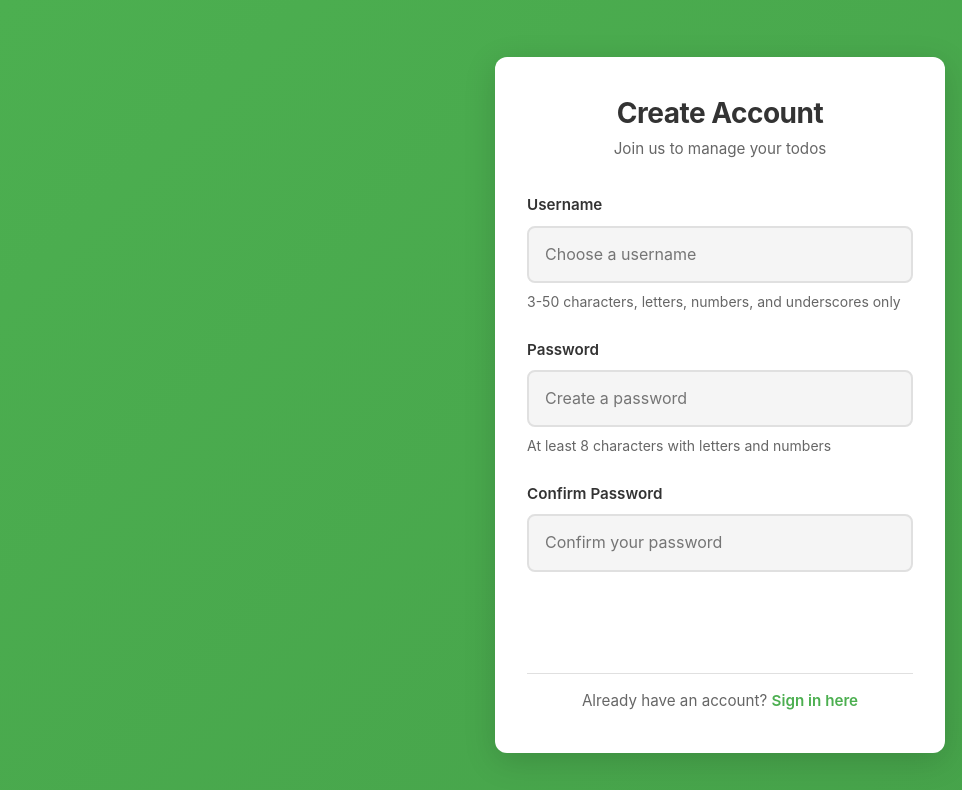
SignupPage.vue › Username Validation › shows error for username with invalid characters
This screenshot has width=962, height=790.
Type "user@name" into the field with id "username" at (720, 254), box [527, 226, 913, 283]
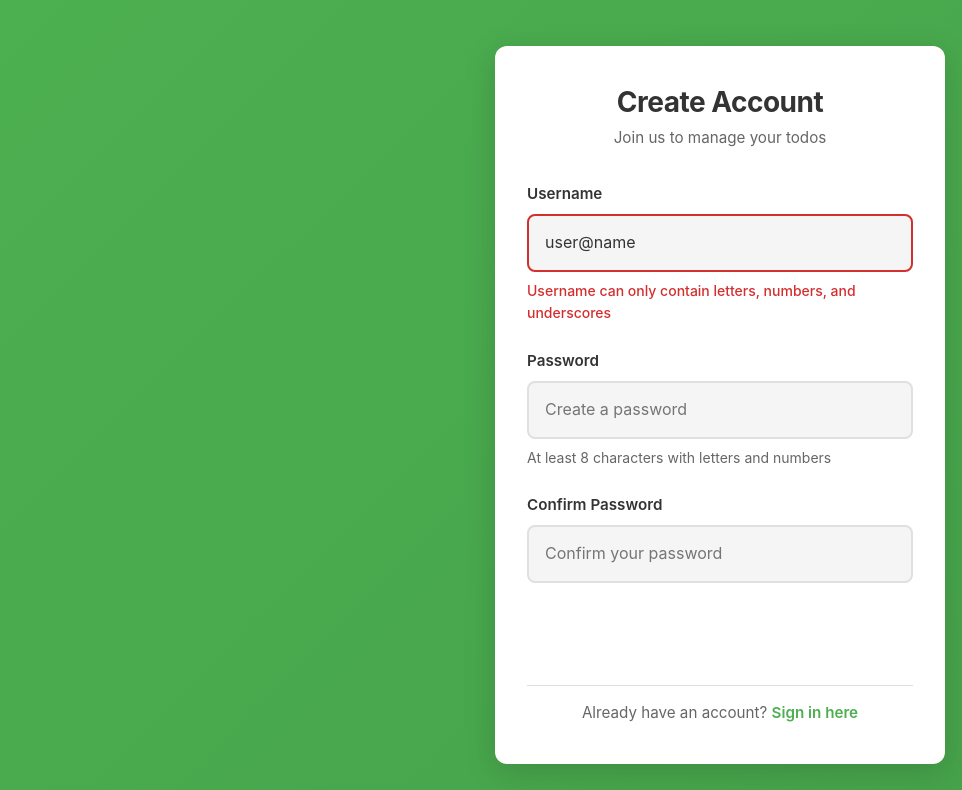
Expected: the message "Username can only contain letters, numbers, and underscores" is shown, [527, 280, 913, 325]
Expected: the message with id "username-error" shows "letters, numbers, and underscores", [527, 282, 856, 321]
